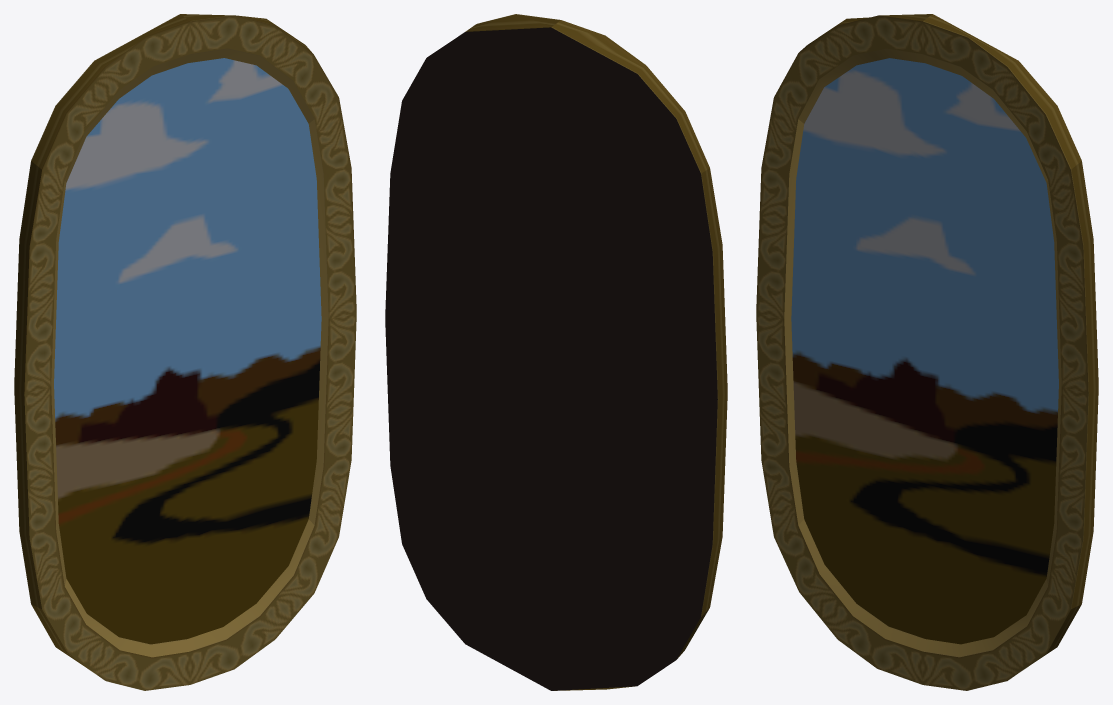
Rendered from SM_Prop_FarmPhoto_10.obj.
The picture shows the model from 3 angles, left to right: view 1: azimuth 30°, elevation 25°; view 2: azimuth 150°, elevation 25°; view 3: azimuth 330°, elevation 25°; orthographic projection.
Visible parts, largest first — view 1: SM_Prop_FarmPhoto_10_Mat_SwatchOverlay_Farm_Main_01_Inst; view 2: SM_Prop_FarmPhoto_10_Mat_SwatchOverlay_Farm_Main_01_Inst; view 3: SM_Prop_FarmPhoto_10_Mat_SwatchOverlay_Farm_Main_01_Inst.
Boxes of the visible parts, x1=… form: SM_Prop_FarmPhoto_10_Mat_SwatchOverlay_Farm_Main_01_Inst: x1=14, y1=14, x2=356, y2=690; SM_Prop_FarmPhoto_10_Mat_SwatchOverlay_Farm_Main_01_Inst: x1=385, y1=14, x2=727, y2=690; SM_Prop_FarmPhoto_10_Mat_SwatchOverlay_Farm_Main_01_Inst: x1=756, y1=14, x2=1098, y2=690.
Bounding box in the file's own units: 0.5302 × 1.01 × 0.0288.
1 material, 1 textured.
